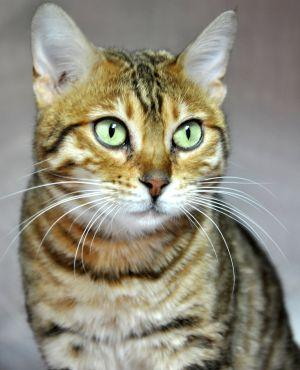bengal: (13, 1, 265, 243)
